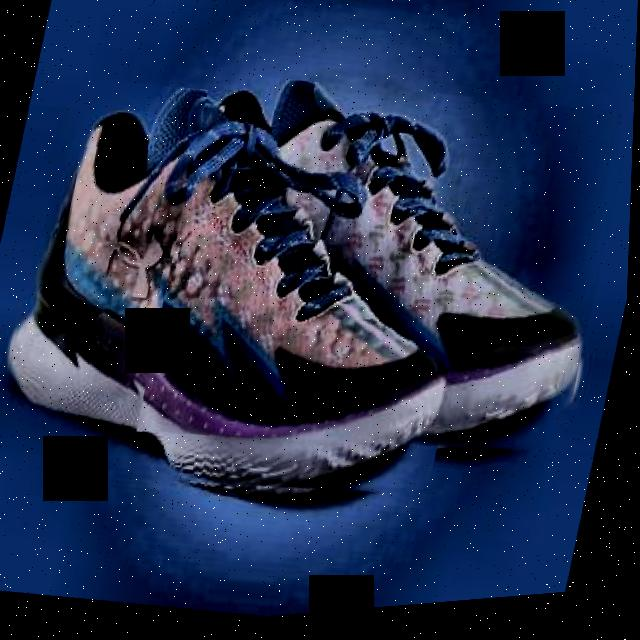shoe: (0, 49, 509, 550), (137, 48, 637, 509)
